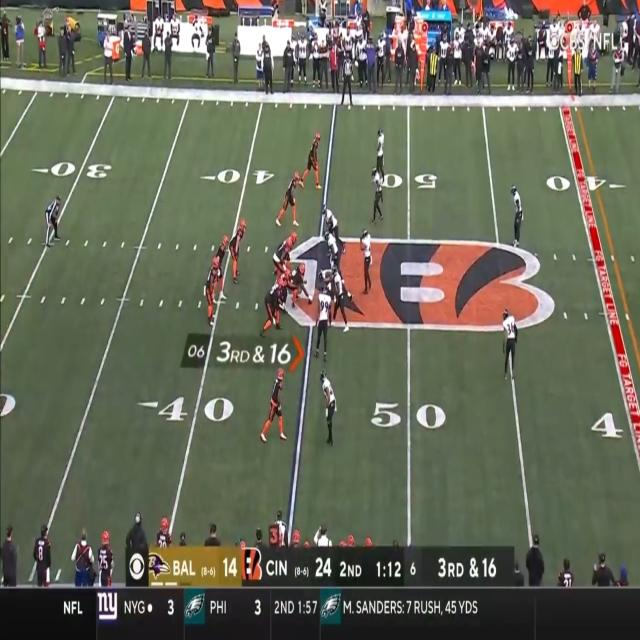Ball: (308, 294, 314, 304)
